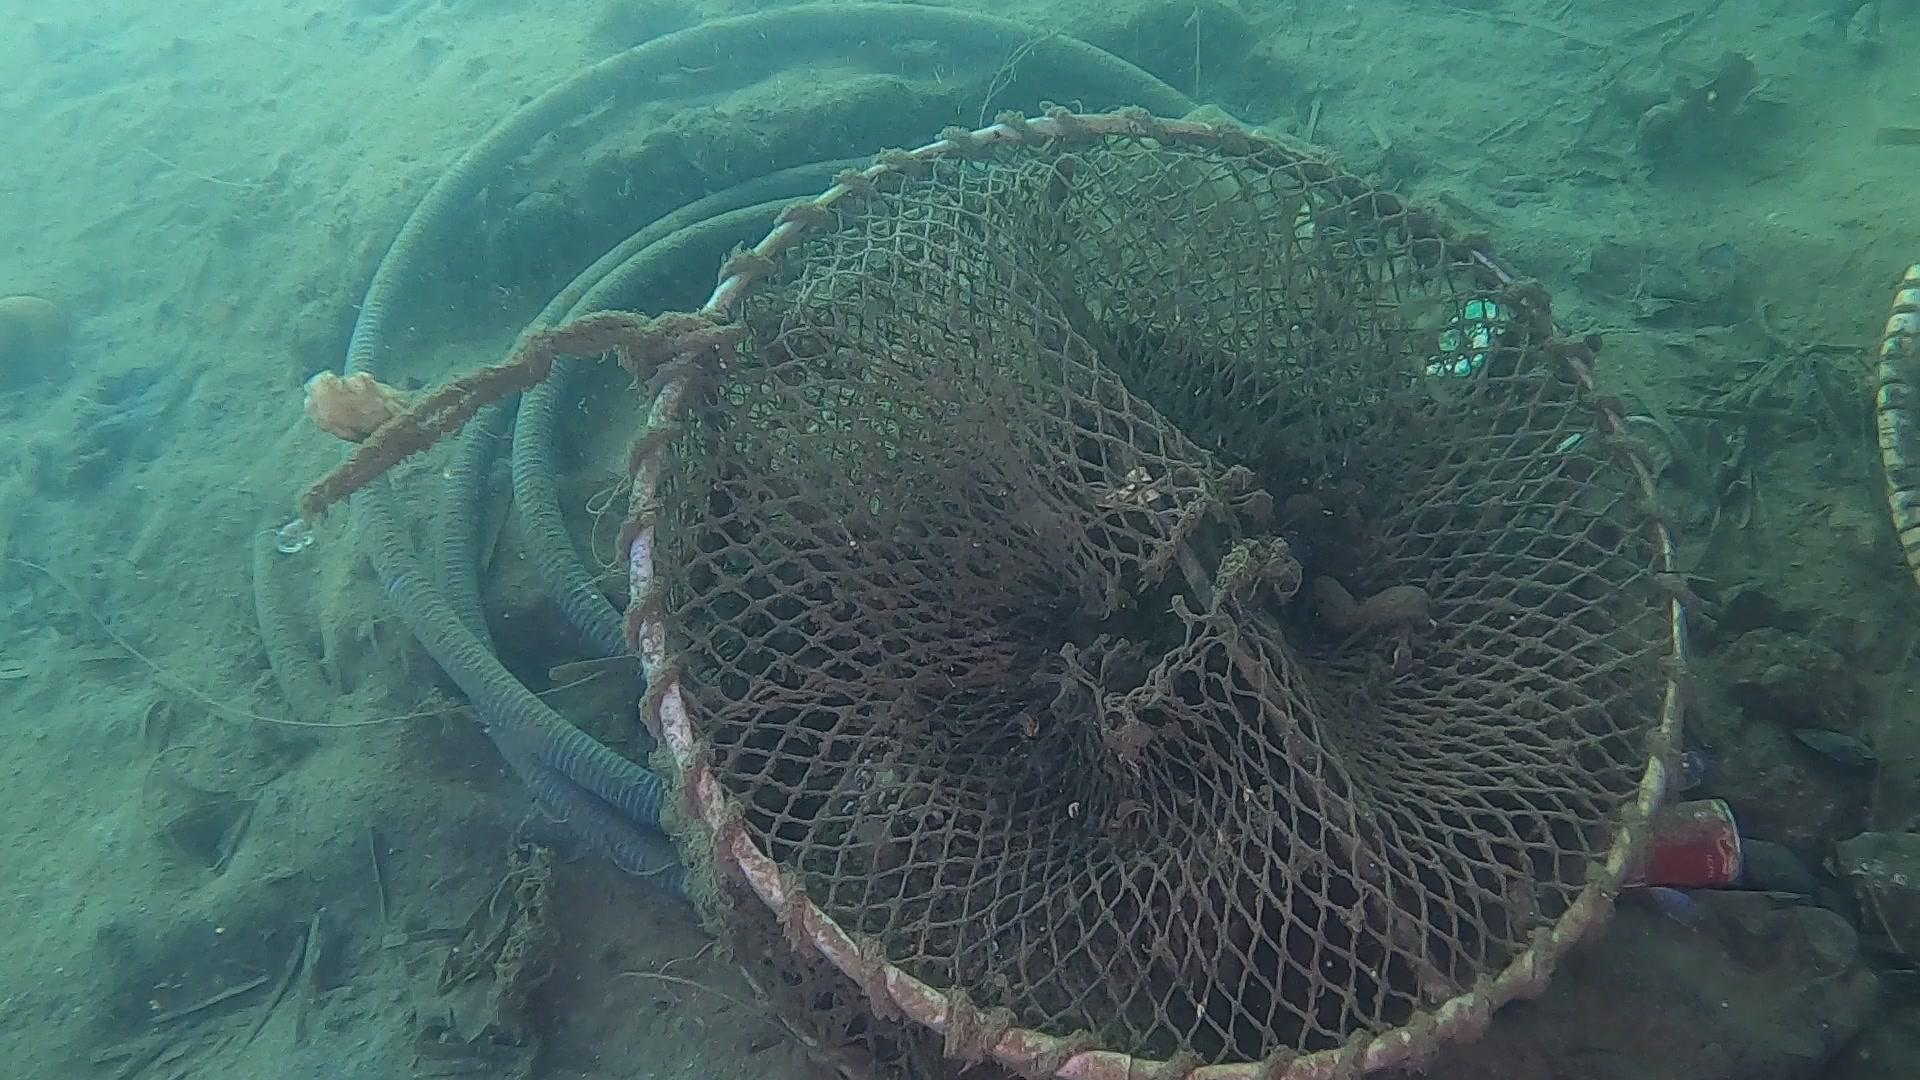bundle of ropes: (290, 303, 703, 516)
circular fish trap: (615, 109, 1683, 1080)
